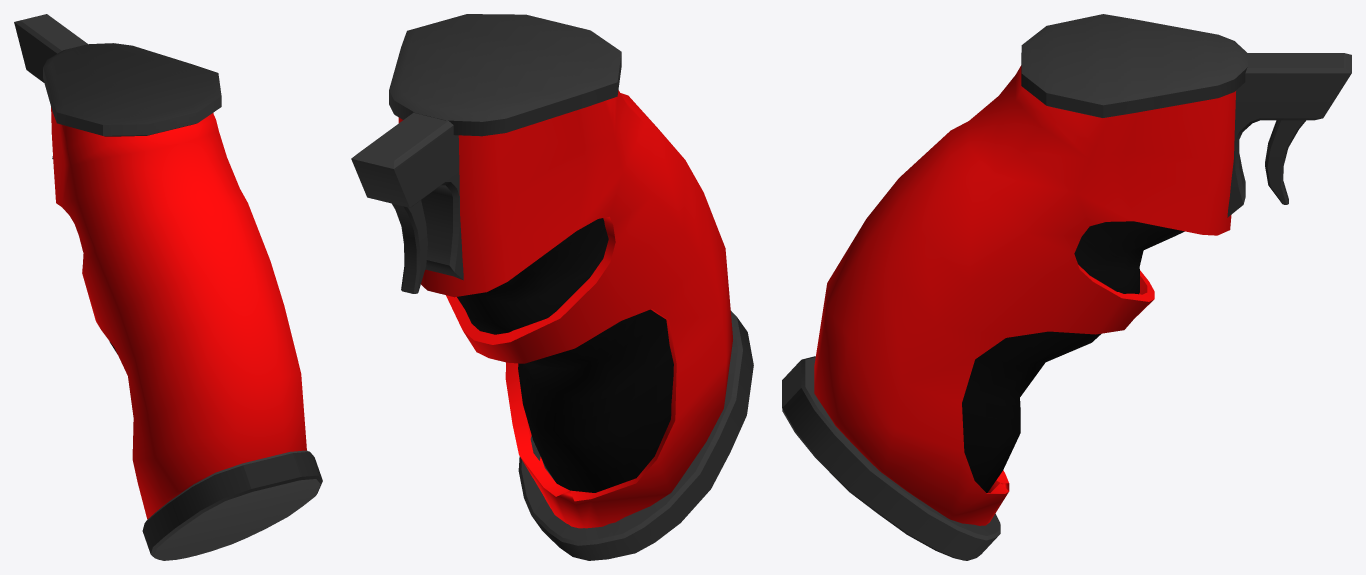
The model's file is Msh_Handle.FBX.
3 renders of one model, left to right at view 1: azimuth 30°, elevation 25°; view 2: azimuth 150°, elevation 25°; view 3: azimuth 270°, elevation 25°, orthographic. The views are drawn at different scales.
Parts seen in each view (by area): view 1: Handle_Body; view 2: Handle_Body; view 3: Handle_Body.
Part boxes in pixels (bbox=[...]): Handle_Body: bbox=[14, 14, 322, 560]; Handle_Body: bbox=[351, 14, 753, 560]; Handle_Body: bbox=[782, 14, 1351, 560].
Size of the model in its own units: 5.8 by 15.28 by 14.67.
